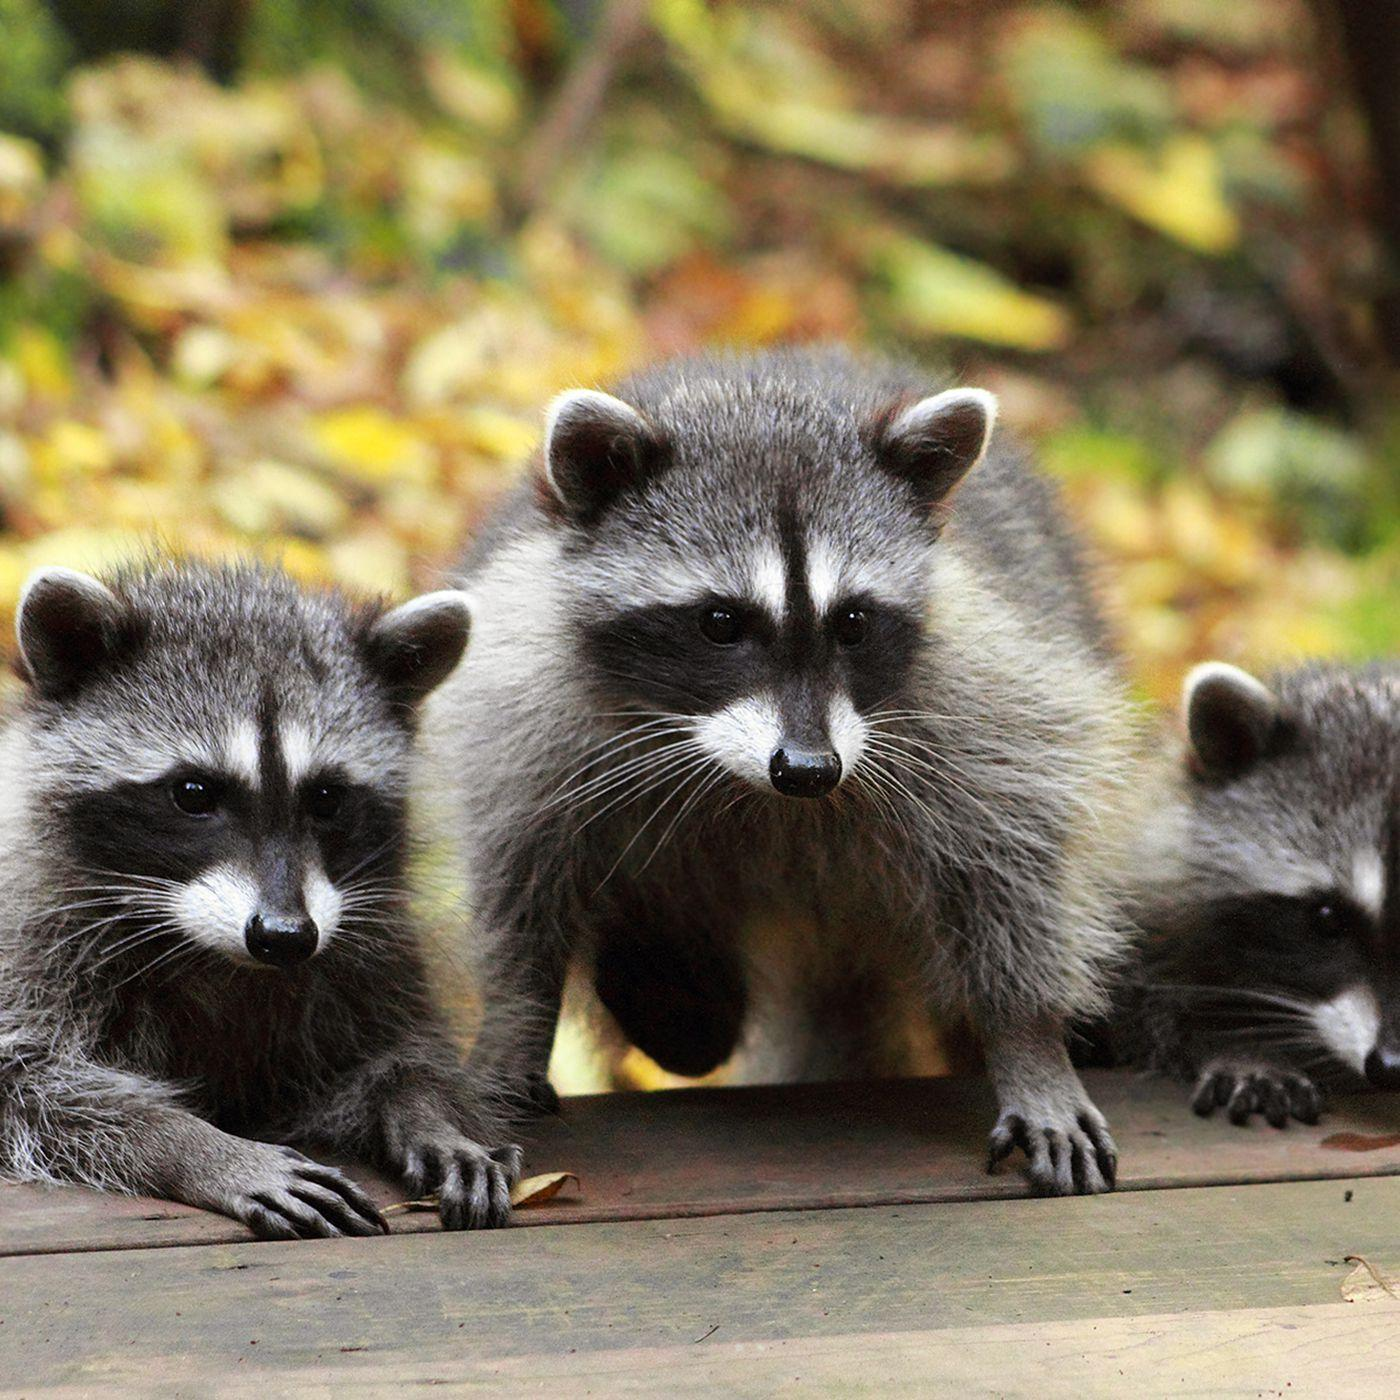raccoon: (455, 335, 1156, 1209), (5, 545, 522, 1249), (1145, 642, 1400, 1151)
